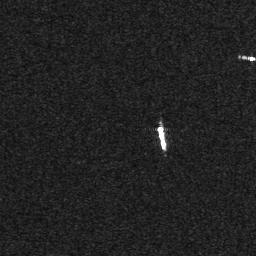ship: (156, 122, 167, 153)
